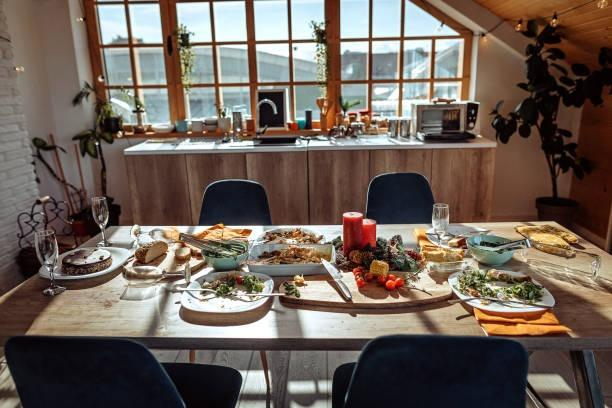Messy Table: (34, 194, 596, 361)
